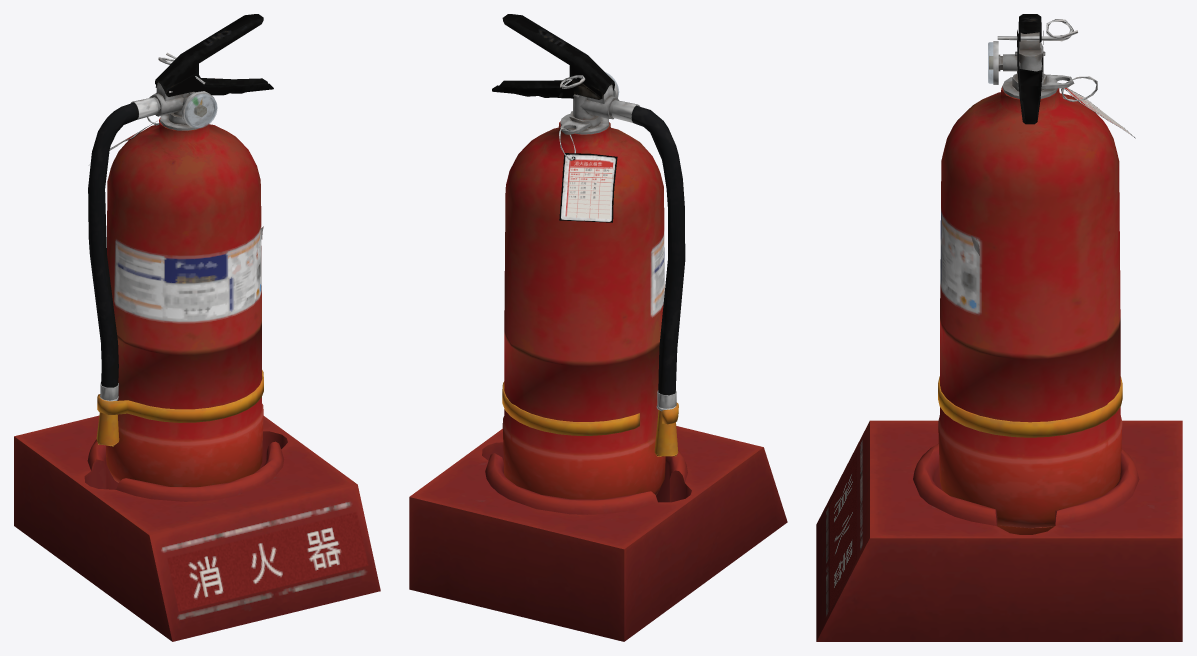
Rendered from korean_fire_extinguisher_01.glb.
3 renders of one model, left to right at view 1: azimuth 30°, elevation 25°; view 2: azimuth 150°, elevation 25°; view 3: azimuth 270°, elevation 25°, orthographic. The views are drawn at different scales.
Visible parts, largest first — view 1: korean_fire_extinguisher_01; view 2: korean_fire_extinguisher_01; view 3: korean_fire_extinguisher_01.
Boxes of the visible parts, x1=… form: korean_fire_extinguisher_01: x1=14, y1=14, x2=380, y2=641; korean_fire_extinguisher_01: x1=409, y1=14, x2=787, y2=641; korean_fire_extinguisher_01: x1=816, y1=14, x2=1182, y2=641.
Bounding box in the file's own units: 0.279 × 0.6581 × 0.3675.
Materials: 3 (3 with a texture image).
